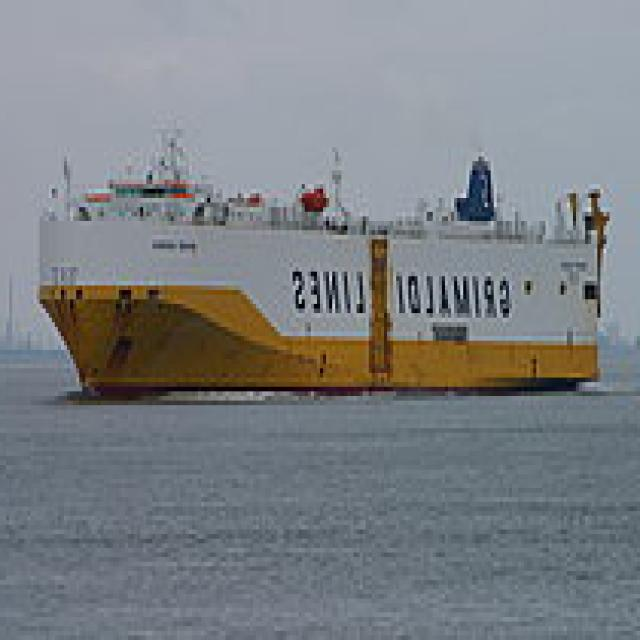Carrier: (36, 110, 618, 400)
